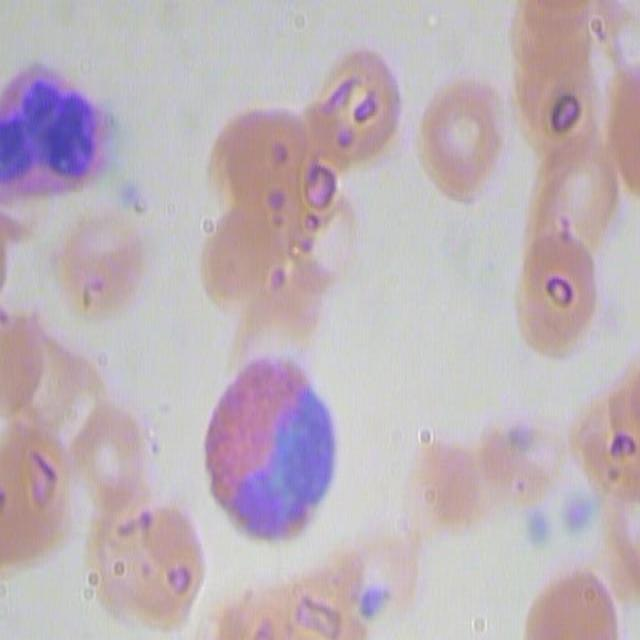RBC: (224, 535, 426, 640), (68, 481, 206, 626), (216, 103, 347, 252), (198, 225, 339, 332), (297, 49, 403, 179), (0, 391, 67, 576), (412, 427, 528, 532), (522, 209, 590, 382), (542, 121, 612, 283), (522, 0, 587, 168), (72, 356, 133, 528), (577, 406, 640, 547), (61, 218, 159, 304), (596, 24, 640, 213), (6, 318, 71, 430)
WBC: (4, 56, 112, 232), (200, 358, 202, 359)
platelets: (569, 494, 593, 528), (525, 506, 545, 546)
